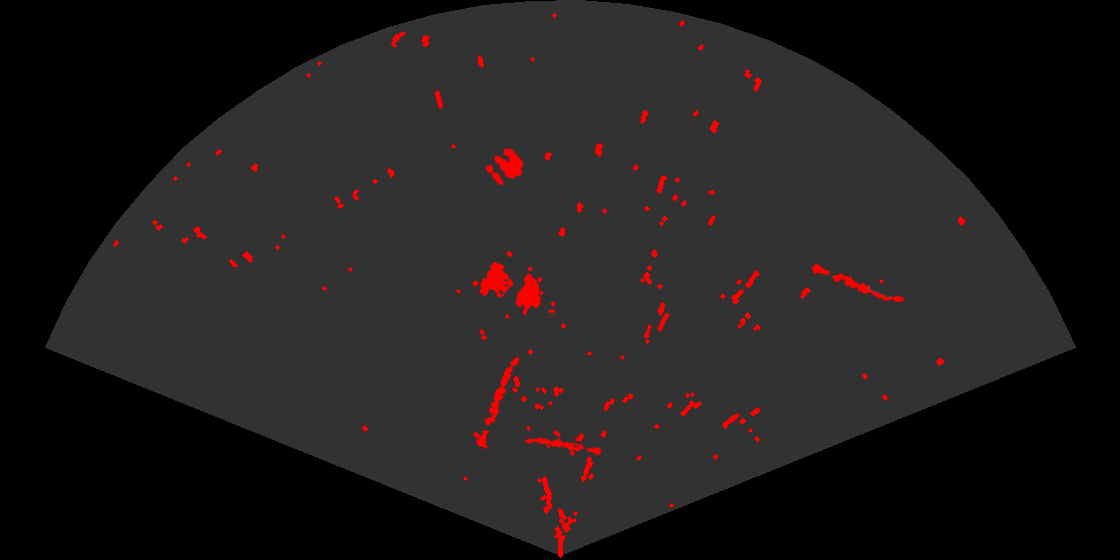ball: (484, 146, 525, 187)
cage: (477, 260, 555, 318)
chain: (474, 355, 521, 449), (810, 262, 905, 304), (523, 436, 605, 457)
